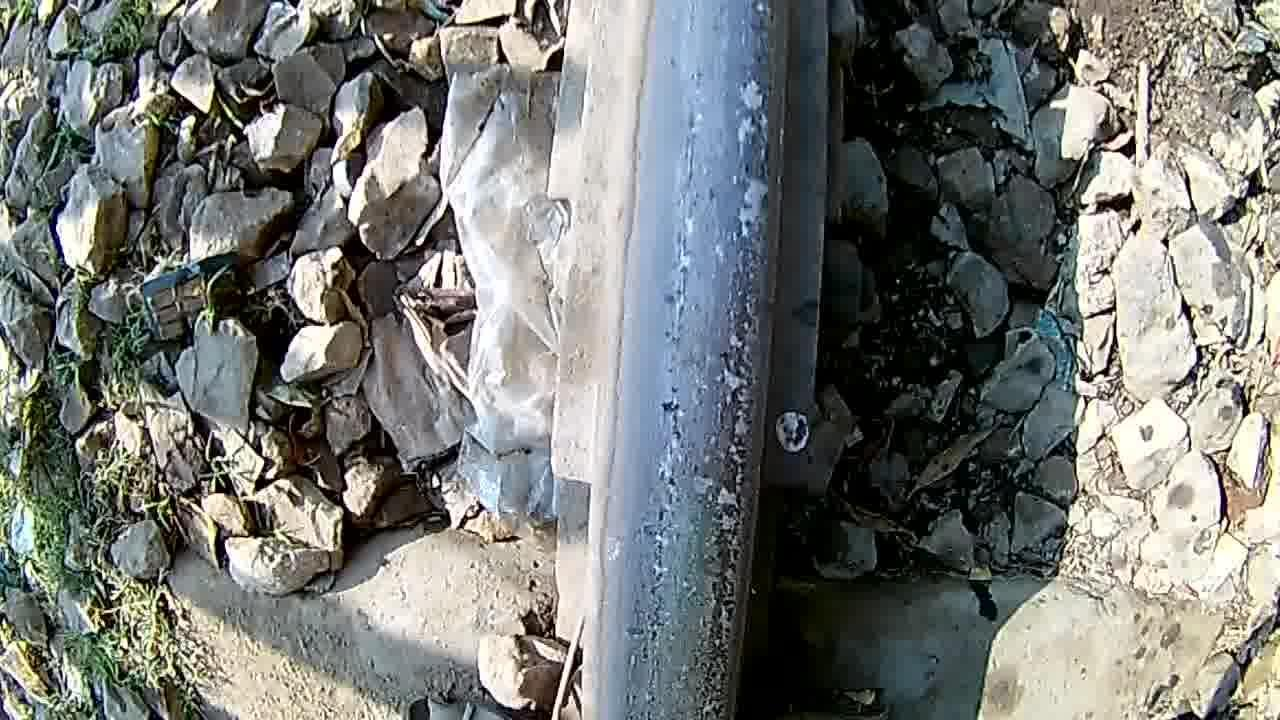crack: (613, 0, 796, 720)
